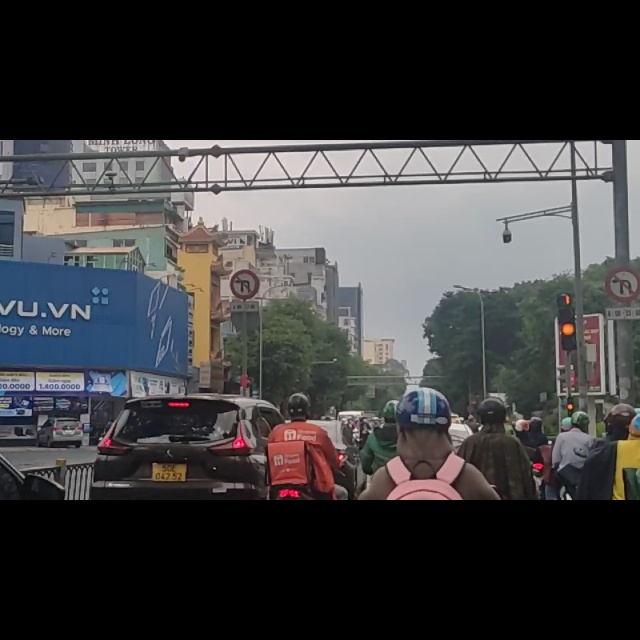bien_cam: (605, 225, 640, 293), (229, 226, 259, 286)
